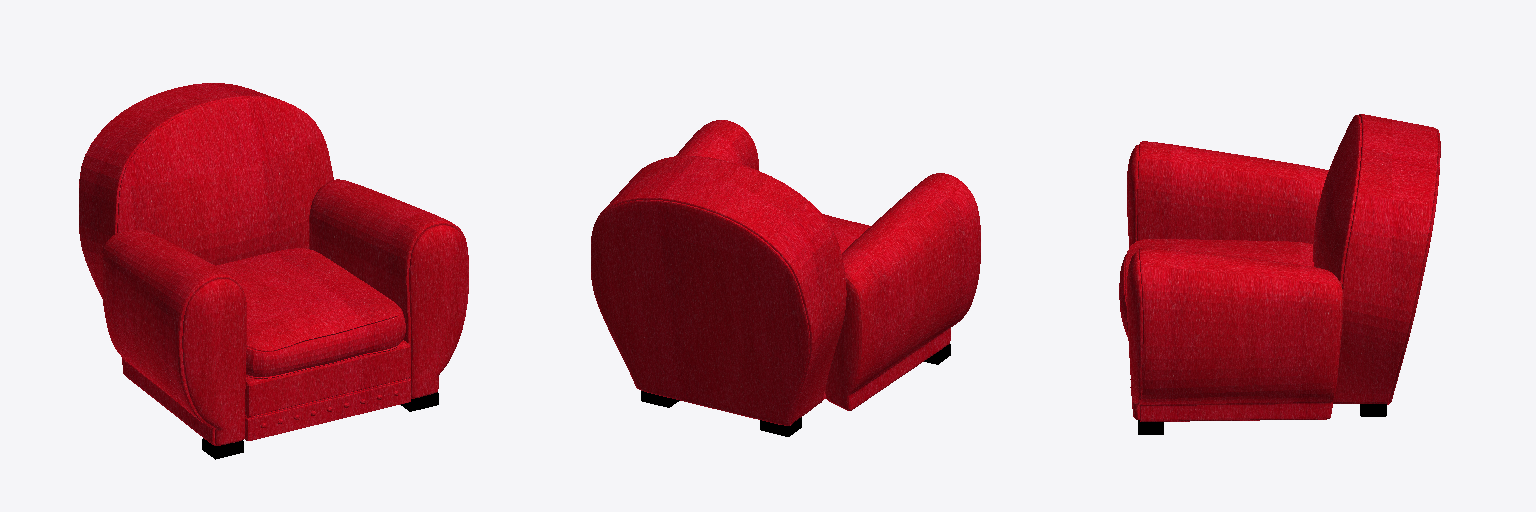
3 renders of one model, left to right at view 1: azimuth 30°, elevation 25°; view 2: azimuth 150°, elevation 25°; view 3: azimuth 270°, elevation 25°, orthographic.
Parts seen in each view (by area): view 1: polySurface40; view 2: polySurface40; view 3: polySurface40.
Boxes of the visible parts, box(x1,y1,x2,y2) form: polySurface40: box(79, 83, 468, 459); polySurface40: box(591, 120, 980, 436); polySurface40: box(1119, 114, 1440, 434).
Bounding box in the file's own units: 110 × 89.52 × 105.
Materials: 5 (1 with a texture image).